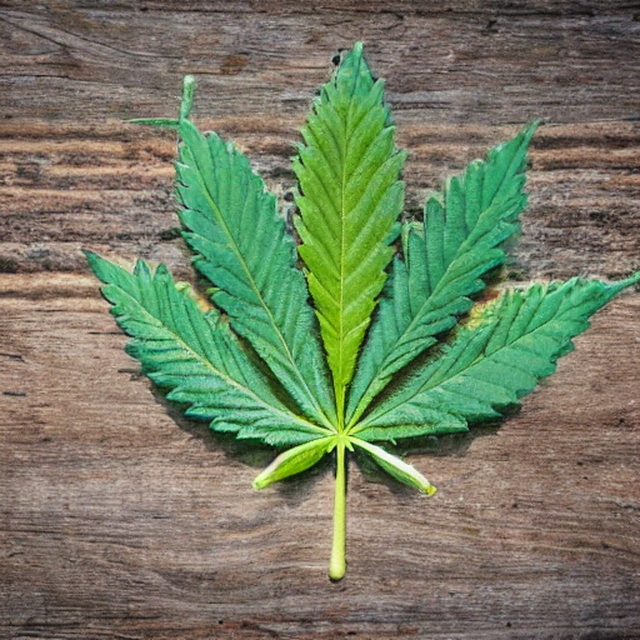Marijuana Leaf: (80, 40, 640, 581), (287, 39, 408, 425)
